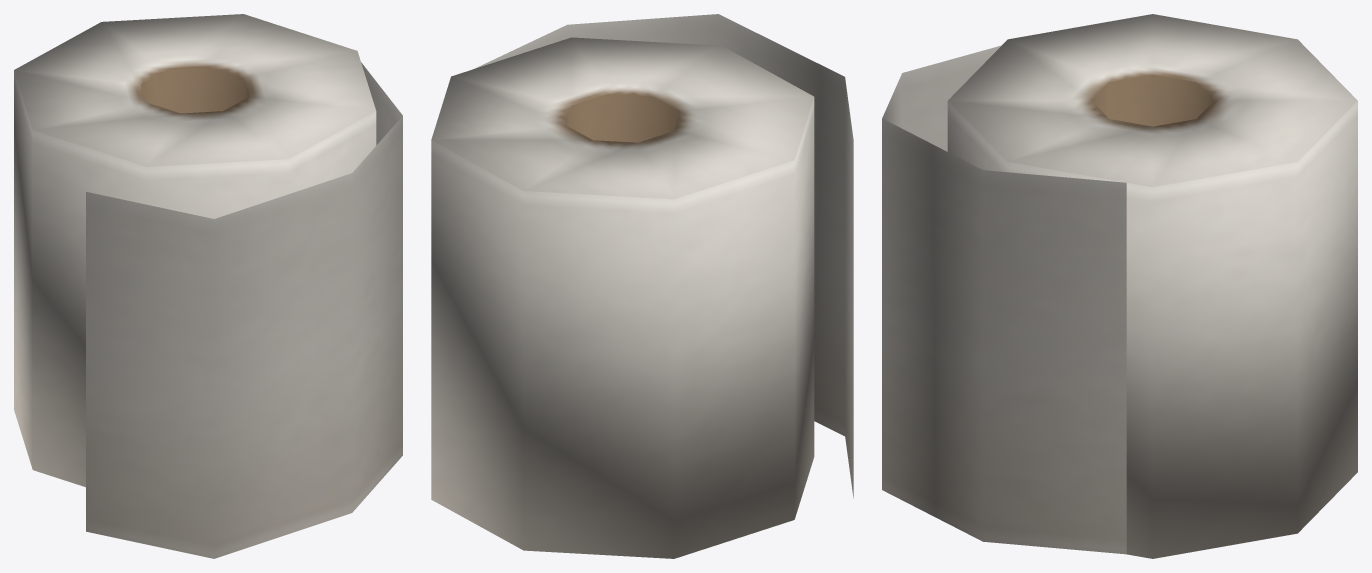
The model's file is ShenMiRenJia_01_juanzhi_01.FBX.
The picture shows the model from 3 angles, left to right: view 1: azimuth 30°, elevation 25°; view 2: azimuth 150°, elevation 25°; view 3: azimuth 270°, elevation 25°; orthographic projection. The views are drawn at different scales.
Parts seen in each view (by area): view 1: ShenMiRenJia_01_juanzhi_01; view 2: ShenMiRenJia_01_juanzhi_01; view 3: ShenMiRenJia_01_juanzhi_01.
Part boxes in pixels (x1,y1,x2,y2): ShenMiRenJia_01_juanzhi_01: (14, 14, 402, 558); ShenMiRenJia_01_juanzhi_01: (431, 14, 853, 558); ShenMiRenJia_01_juanzhi_01: (882, 14, 1357, 558).
Size of the model in its own units: 106 by 112 by 122.
